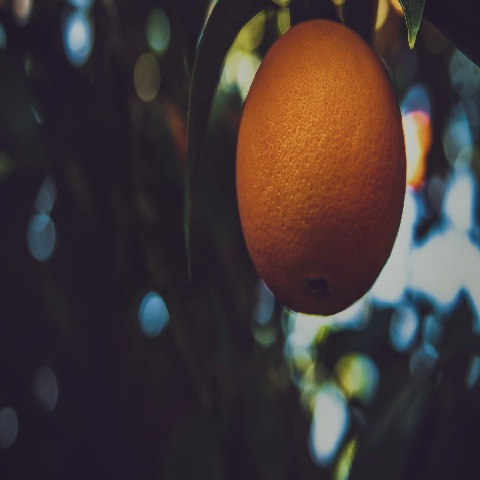orange: (218, 14, 441, 327)
